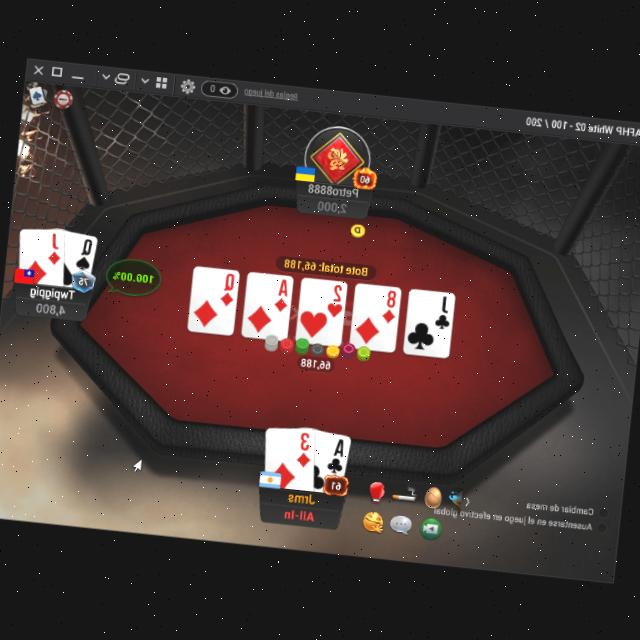2h: (323, 280, 348, 318)
3d: (293, 426, 314, 468)
8d: (378, 285, 399, 323)
Ac: (323, 432, 347, 474)
Ad: (271, 274, 292, 312)
Jc: (430, 290, 453, 329)
Jd: (45, 228, 65, 266)
Qd: (218, 267, 238, 307)
Qs: (72, 233, 96, 271)
all_in_symbol: (280, 502, 318, 522)
bet_text: (299, 354, 332, 371)
dealer: (348, 218, 367, 238)
pot_text: (282, 253, 366, 274)
stack_text: (315, 195, 349, 212), (34, 298, 66, 315)
